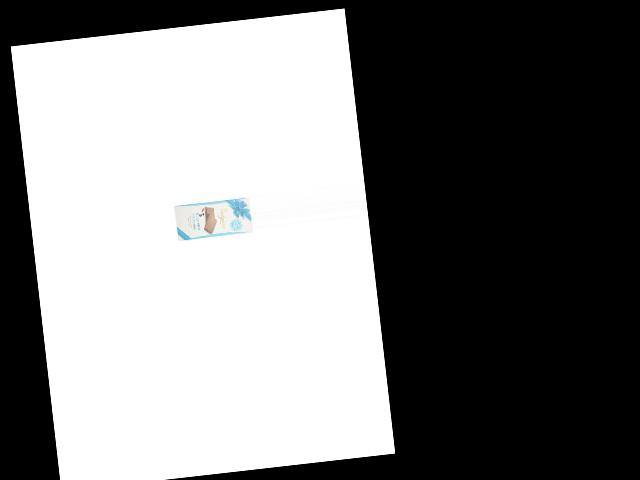chocolate: (171, 192, 254, 244)
